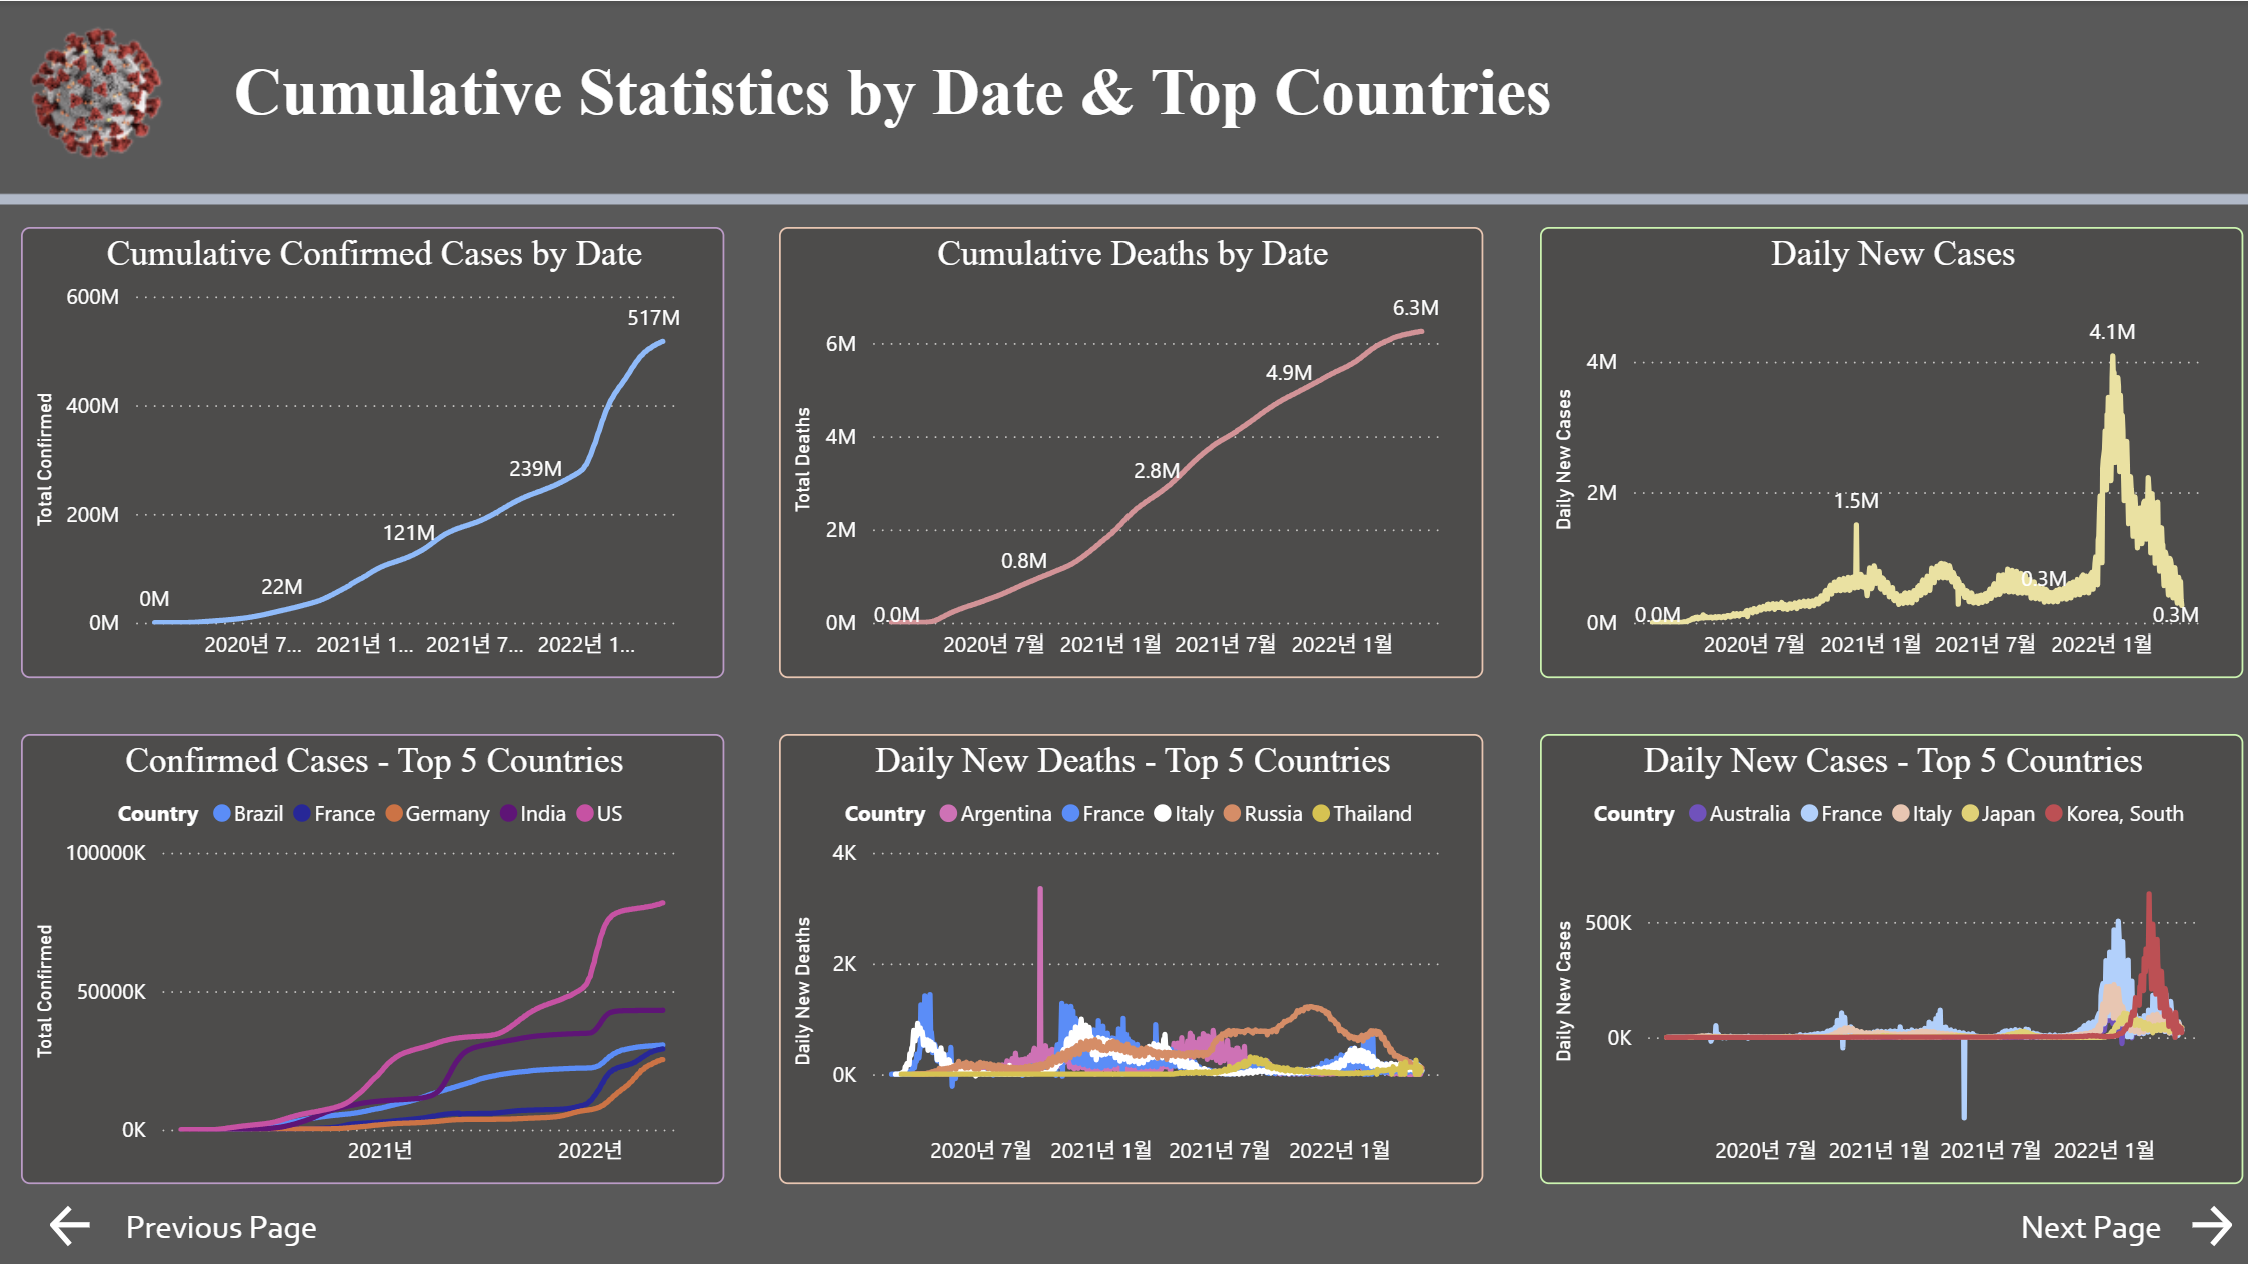

The page's visual inventory and layout, read from the dashboard file:
{"tool":"powerbi","page":{"name":"Cumulative Statistics by Date","canvas":[1280,720],"ordinal":2},"visuals":[{"type":"lineChart","title":"Cumulative Confirmed Cases by Date","fields":{"Category":["Calendar.Date"],"Y":["COVID-19 Measures.Total Confirmed"]},"box":[12,128,400,256],"z":0},{"type":"lineChart","title":"Cumulative Deaths by Date","fields":{"Category":["Calendar.Date"],"Y":["COVID-19 Measures.Total Deaths"]},"box":[444,128,400,256],"z":1000},{"type":"lineChart","title":"Daily New Cases","fields":{"Category":["Calendar.Date"],"Y":["COVID-19 Measures.Daily New Cases"]},"box":[876,128,400,256],"z":2000},{"type":"lineChart","title":"Daily New Cases - Top 5 Countries","fields":{"Category":["Calendar.Date"],"Y":["COVID-19 Measures.Daily New Cases"],"Series":["COVID-19 Cases.Country/Region"]},"box":[876,416,400,256],"z":3000},{"type":"lineChart","title":"Confirmed Cases - Top 5 Countries","fields":{"Category":["Calendar.Date"],"Series":["COVID-19 Cases.Country/Region"],"Y":["COVID-19 Measures.Total Confirmed"]},"box":[12,416,400,256],"z":4000},{"type":"lineChart","title":"Daily New Deaths - Top 5 Countries","fields":{"Category":["Calendar.Date"],"Series":["COVID-19 Cases.Country/Region"],"Y":["COVID-19 Measures.Daily New Deaths"]},"box":[444,416,400,256],"z":5000},{"type":"textbox","box":[128,25,1040,64],"z":6000},{"type":"actionButton","box":[1145,680,128,32],"z":7000},{"type":"actionButton","box":[25,680,160,32],"z":8000}]}

Visuals, with their boxes in screenshot pixels (x1, y1, x2, y2), scaled from the page's 1280x720 canvas onto the 2248x1264 screenshot:
"Cumulative Confirmed Cases by Date" lineChart: x1=21 y1=225 x2=724 y2=674
"Cumulative Deaths by Date" lineChart: x1=780 y1=225 x2=1482 y2=674
"Daily New Cases" lineChart: x1=1538 y1=225 x2=2241 y2=674
"Daily New Cases - Top 5 Countries" lineChart: x1=1538 y1=730 x2=2241 y2=1180
"Confirmed Cases - Top 5 Countries" lineChart: x1=21 y1=730 x2=724 y2=1180
"Daily New Deaths - Top 5 Countries" lineChart: x1=780 y1=730 x2=1482 y2=1180
textbox: x1=225 y1=44 x2=2051 y2=156
actionButton: x1=2011 y1=1194 x2=2236 y2=1250
actionButton: x1=44 y1=1194 x2=325 y2=1250
